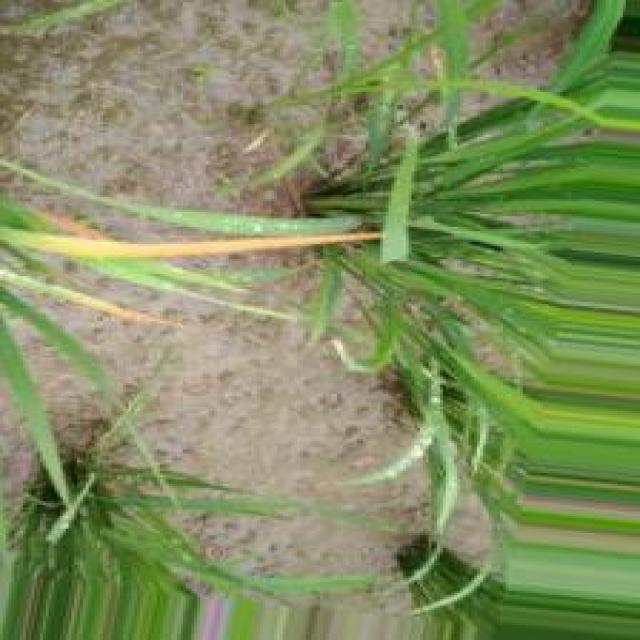Rice Tungro: (0, 269, 174, 324), (23, 233, 380, 258)
